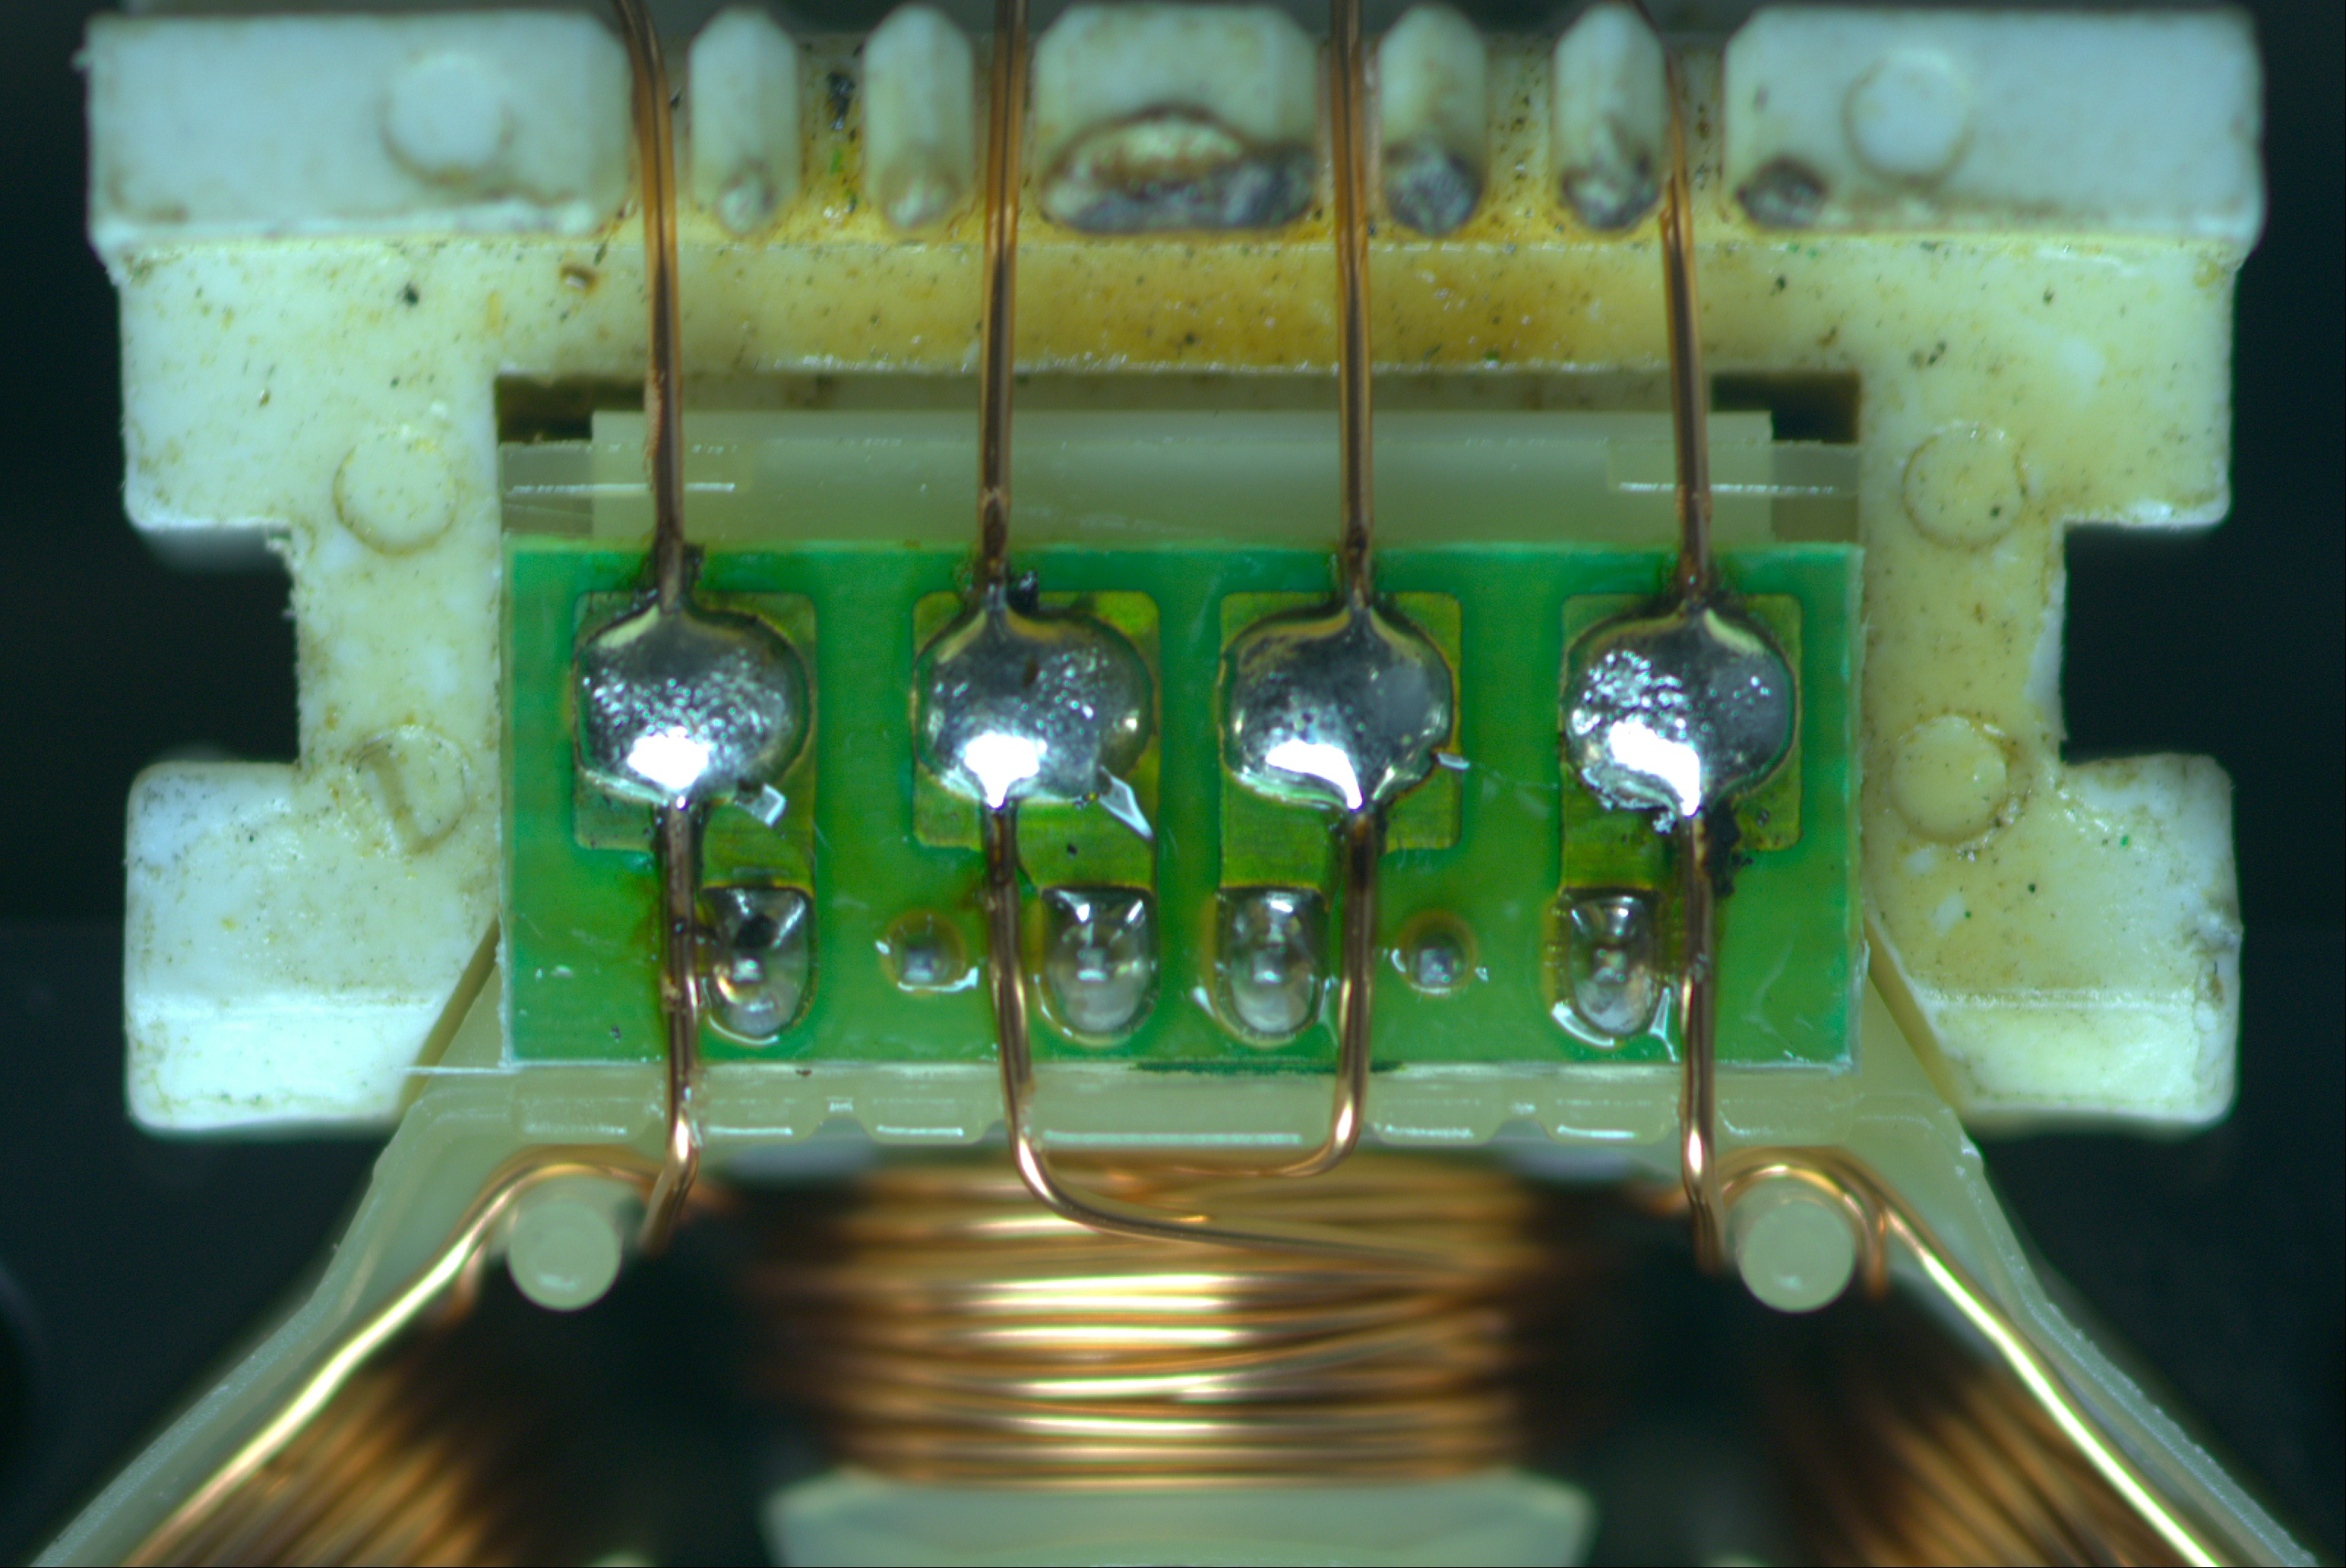Cylinder: (0, 266, 121, 371), (343, 0, 530, 66), (0, 0, 115, 63)
